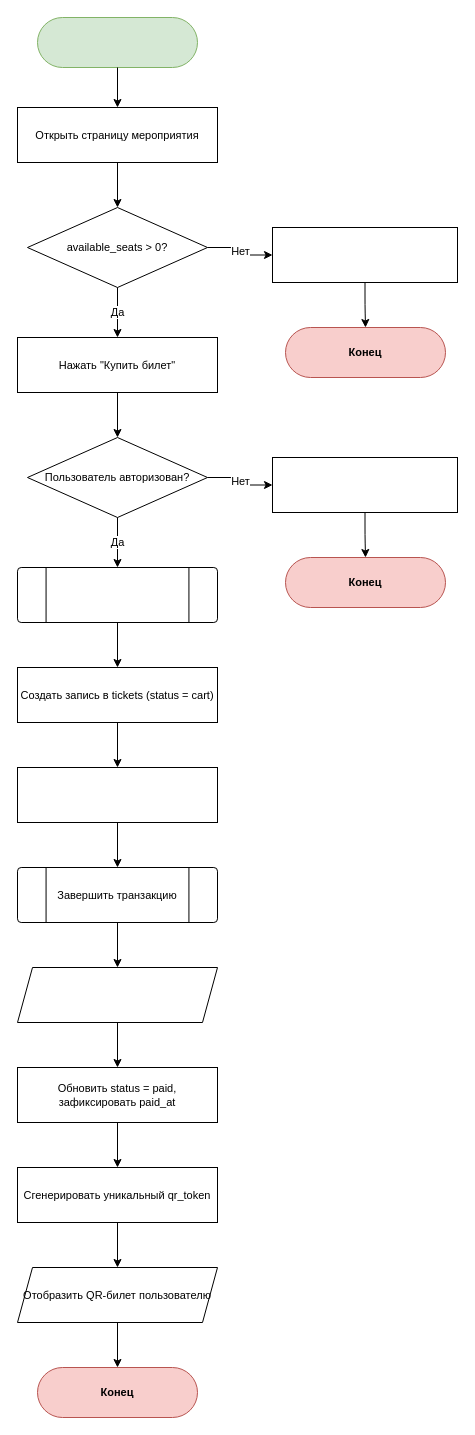
This 475x1435 diagram has some shape labels left out. Here are the shapes that lost their labels. From the top down, the centre of each, then its label:
pixel 117 42: Начало
pixel 365 254: Кнопка покупки недоступна
pixel 365 484: Перенаправить на форму входа
pixel 117 594: Начать транзакцию БД
pixel 117 794: Уменьшить available_seats на 1
pixel 117 994: Подтверждение оплаты пользователем
